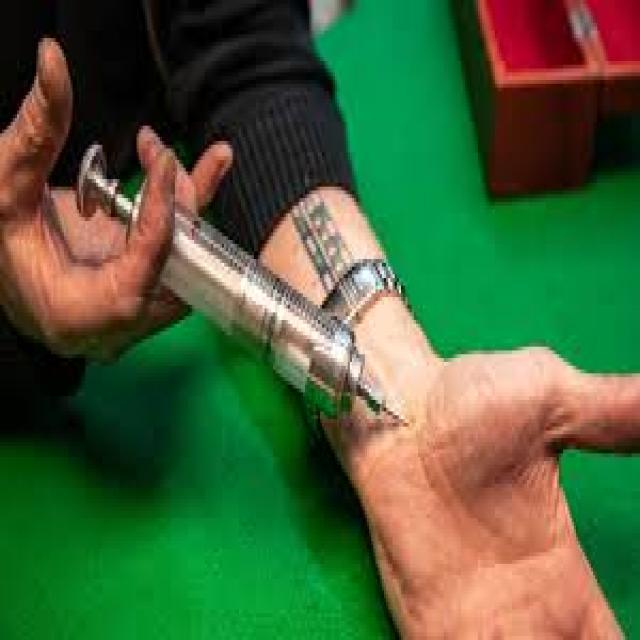syringe: (91, 129, 393, 427)
